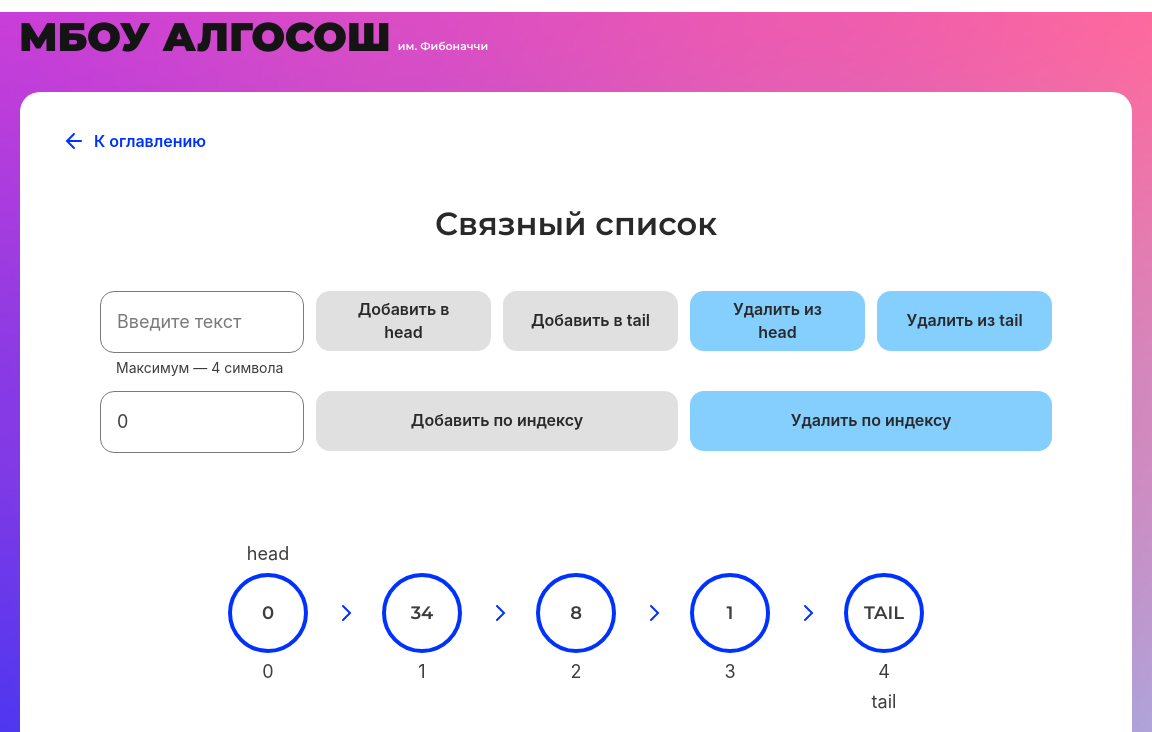
Test: testing linked-list page › add to head
This screenshot has width=1152, height=732.
In the field named "value": [202, 322] box [100,291,304,353], type "head"
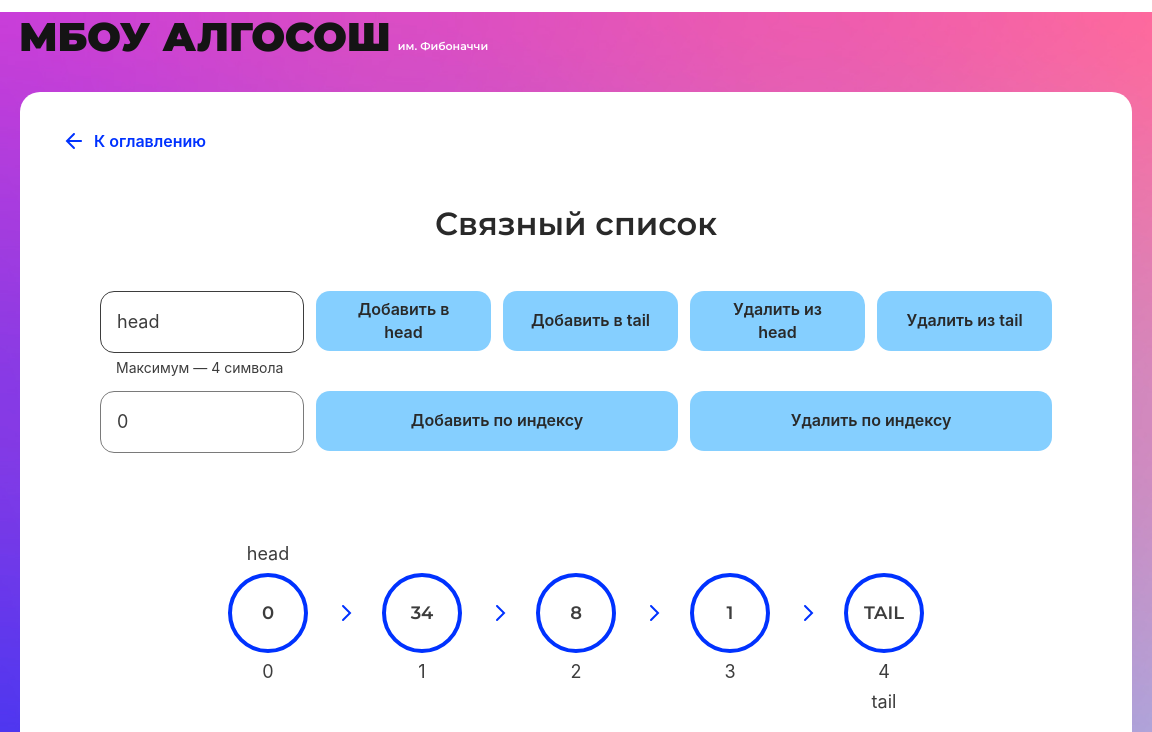
Click the button with test id "addToHead": [404, 321] box [316,291,491,351]
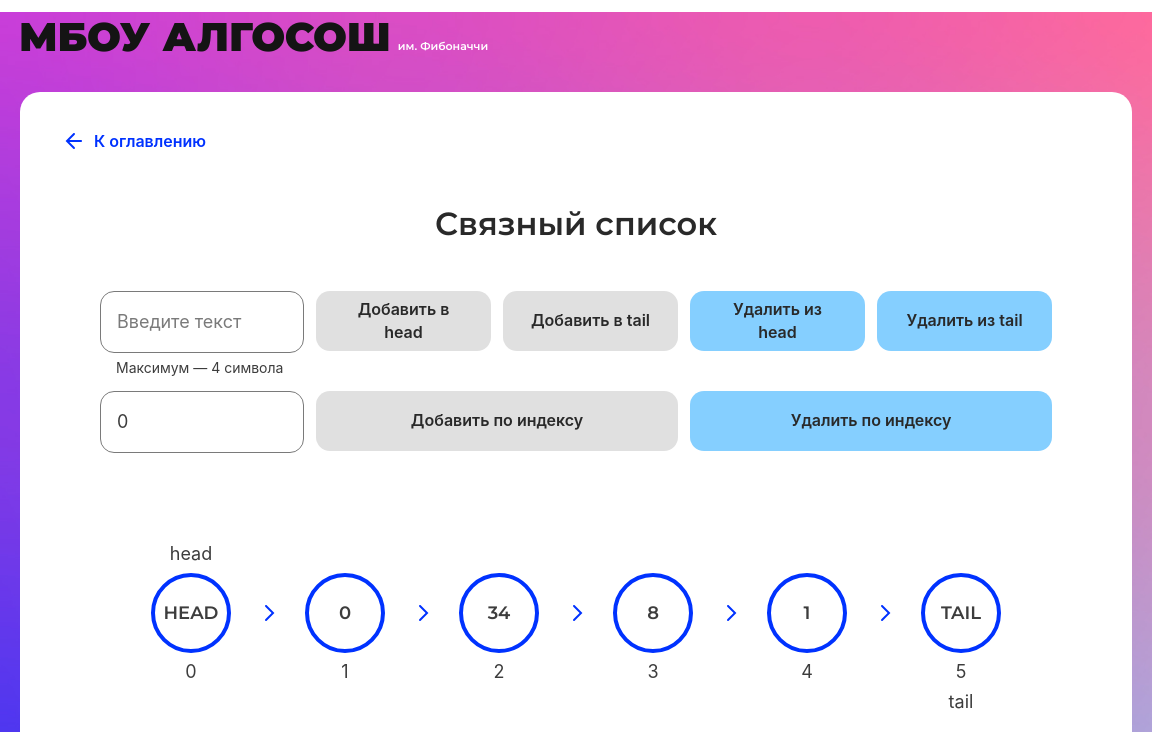
Expected: the text with test id "circle" reads "head", [164,602,219,624]
